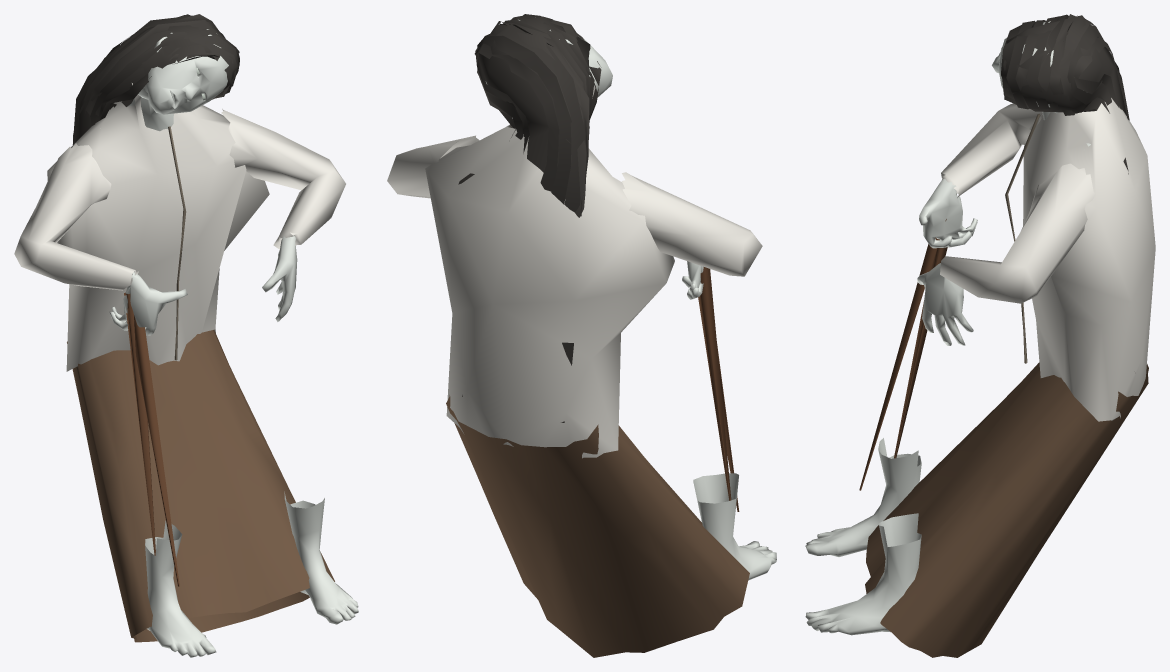
The model's file is SriAtmajaSeated.fbx.
The picture shows the model from 3 angles, left to right: view 1: azimuth 30°, elevation 25°; view 2: azimuth 150°, elevation 25°; view 3: azimuth 270°, elevation 25°; orthographic projection. The views are drawn at different scales.
Visible parts, largest first — view 1: Echo_LongBatikSkirt, Echo_TailoredIvoryKebaya, Echo_VisibleSkin, Echo_KebayaSleeves, Echo_long01, Echo_Shears, Echo_ShearsSecondBlade, Echo_KebayaSeam; view 2: Echo_TailoredIvoryKebaya, Echo_LongBatikSkirt, Echo_long01, Echo_KebayaSleeves, Echo_VisibleSkin, Echo_ShearsSecondBlade; view 3: Echo_LongBatikSkirt, Echo_TailoredIvoryKebaya, Echo_VisibleSkin, Echo_KebayaSleeves, Echo_long01, Echo_Shears, Echo_ShearsSecondBlade, Echo_KebayaSeam.
Boxes of the visible parts, x1,y1,x2,y2 form: Echo_LongBatikSkirt: (67,330,334,642); Echo_TailoredIvoryKebaya: (47,83,269,371); Echo_VisibleSkin: (100,29,358,657); Echo_KebayaSleeves: (14,108,345,290); Echo_long01: (72,14,239,144); Echo_Shears: (127,308,179,586); Echo_ShearsSecondBlade: (124,292,155,555); Echo_KebayaSeam: (168,126,186,360); Echo_TailoredIvoryKebaya: (425,85,674,458); Echo_LongBatikSkirt: (446,395,749,657); Echo_long01: (458,14,601,422); Echo_KebayaSleeves: (387,135,762,276); Echo_VisibleSkin: (485,19,776,580); Echo_ShearsSecondBlade: (698,267,731,500); Echo_LongBatikSkirt: (865,362,1148,657); Echo_TailoredIvoryKebaya: (1023,98,1155,421); Echo_VisibleSkin: (805,21,1090,635); Echo_KebayaSleeves: (940,103,1095,303); Echo_long01: (1001,14,1129,174); Echo_Shears: (859,219,946,490); Echo_ShearsSecondBlade: (894,219,947,458); Echo_KebayaSeam: (1005,113,1040,363).
Size of the model in its own units: 73.38 by 130 by 65.41.
